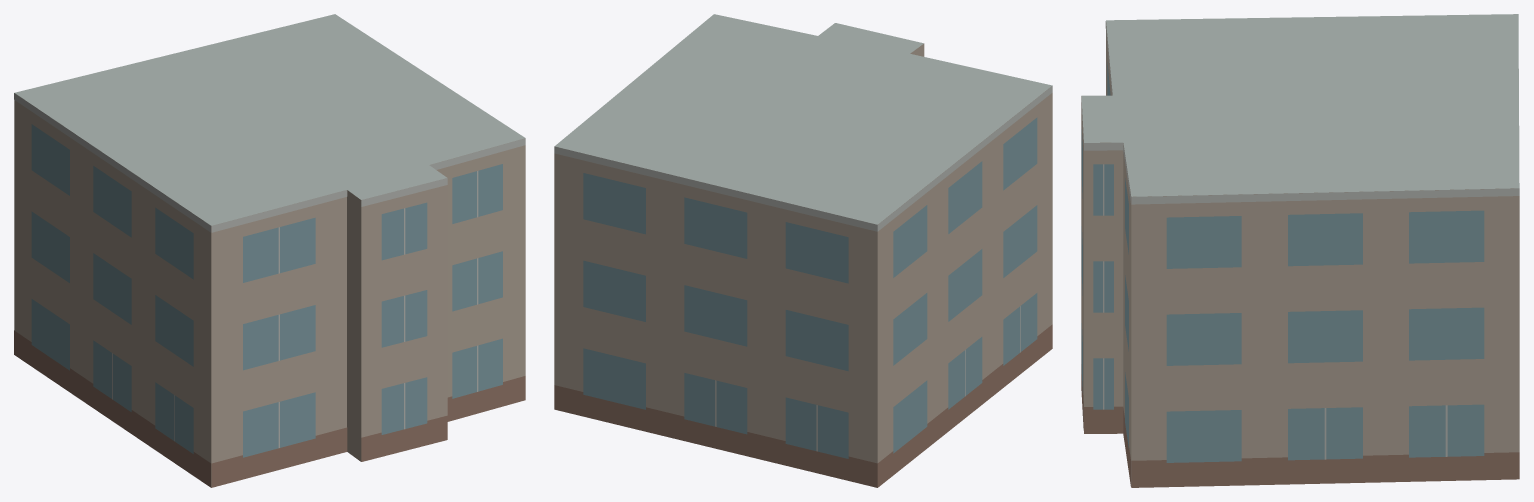
Rendered from survey-upis-32976167.glb.
The picture shows the model from 3 angles, left to right: view 1: azimuth 30°, elevation 25°; view 2: azimuth 150°, elevation 25°; view 3: azimuth 270°, elevation 25°; orthographic projection. The views are drawn at different scales.
Parts seen in each view (by area): view 1: survey-upis-32976167.tmp; view 2: survey-upis-32976167.tmp; view 3: survey-upis-32976167.tmp.
Part boxes in pixels (x1,y1,x2,y2): survey-upis-32976167.tmp: (14,14,525,487); survey-upis-32976167.tmp: (554,14,1052,487); survey-upis-32976167.tmp: (1081,14,1519,487).
Size of the model in its own units: 12.33 by 9.15 by 12.49.
